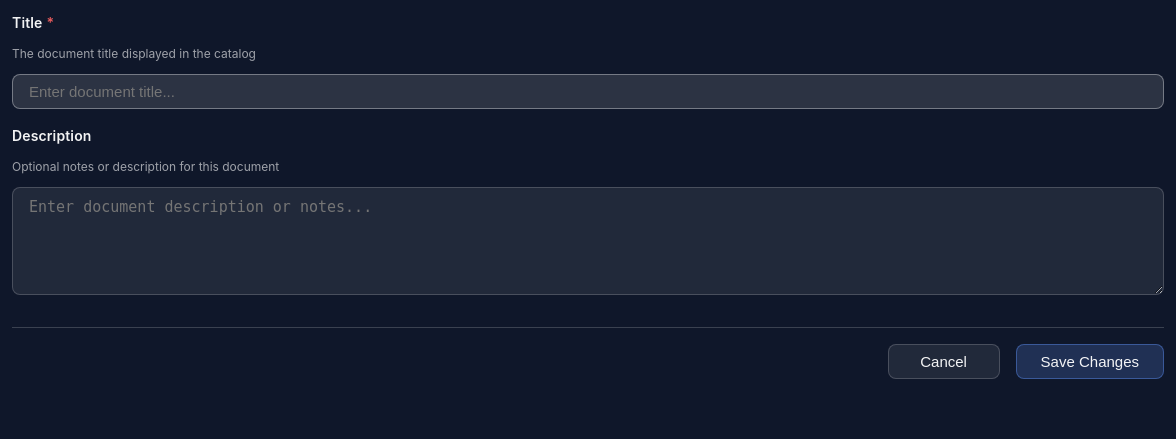
Test: DocumentEditForm › form validation › shows error when title is empty on submit
Note: Submit form
Click the button "Save Changes" at (1090, 362), box [1016,344,1164,379]
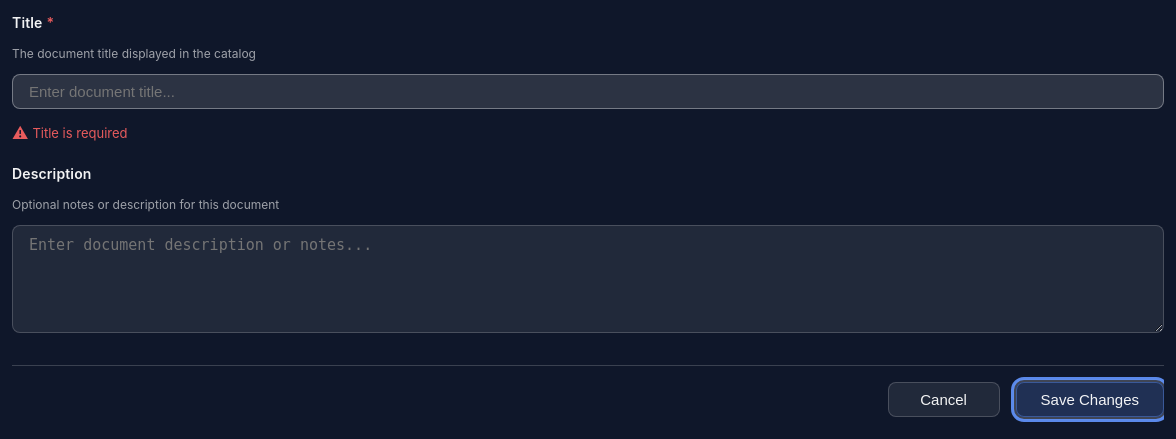
Now the message reads "Title is required", box [32,125,128,141]
